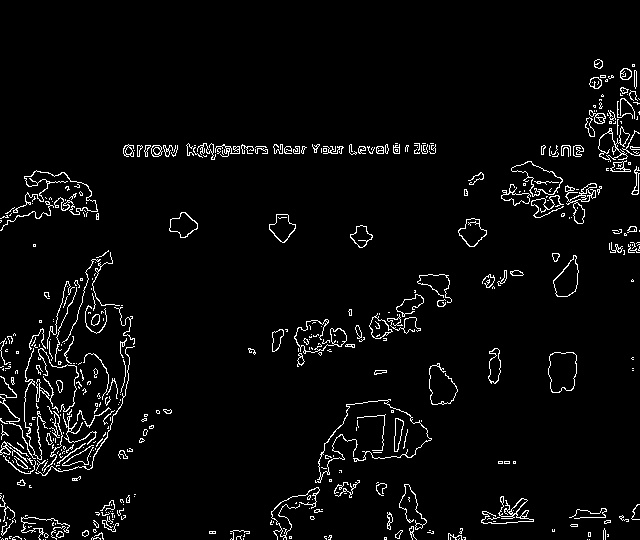rune_box: (118, 183, 535, 284)
